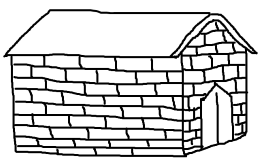big_house: (0, 0, 259, 163)
door: (197, 81, 239, 150)
roof: (2, 4, 260, 69)
wall: (7, 47, 189, 160)
